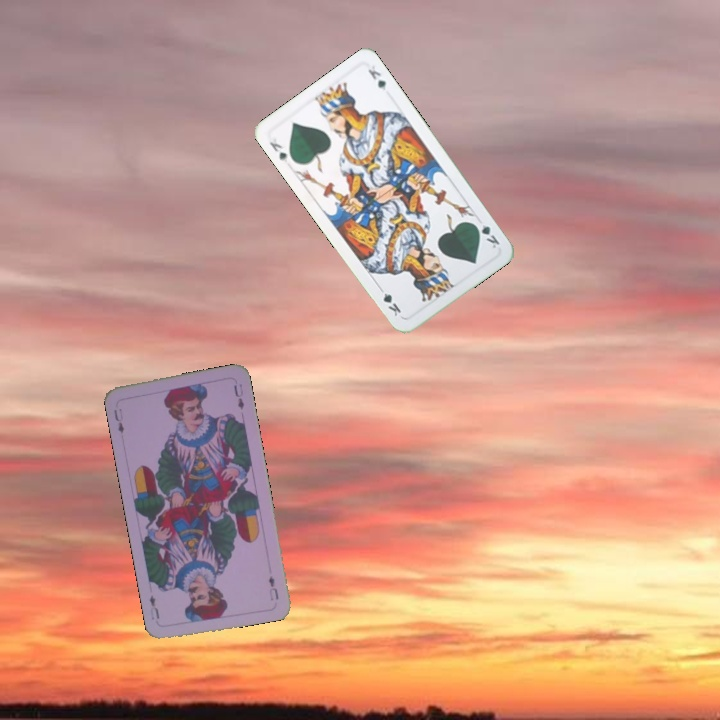EU: (110, 404, 127, 436), (264, 572, 281, 603)
GK: (470, 219, 502, 251), (265, 134, 291, 165)
